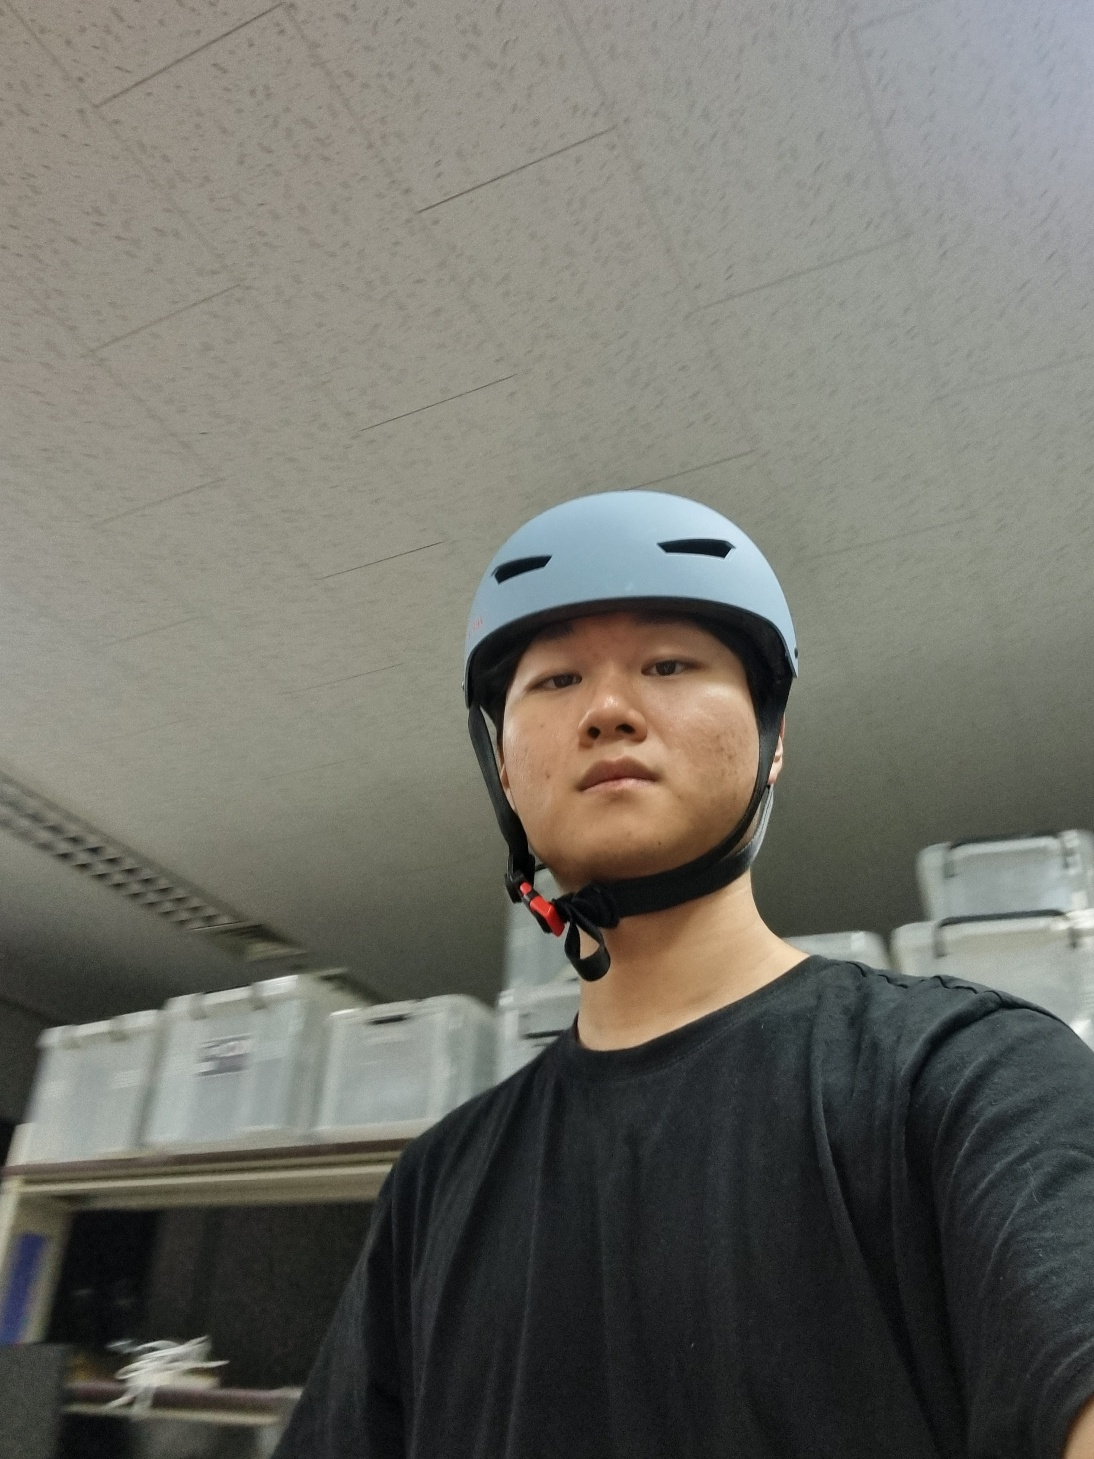Helmet: (431, 463, 825, 932)
